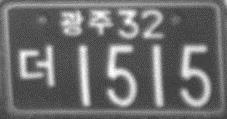1: (75, 43, 93, 107), (149, 42, 165, 109)
2: (140, 8, 165, 40)
3: (116, 8, 140, 39)
5: (178, 42, 212, 109), (103, 42, 137, 107)
광주_O: (58, 7, 113, 36)
더: (16, 42, 56, 87)
